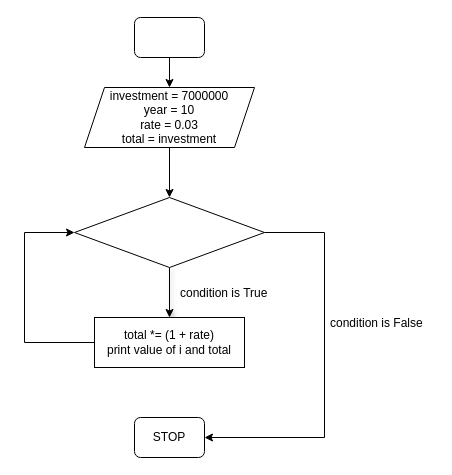
Image size: 452x475. Some labels were removed from this diagram. The centre of each missing label's shape, as x and y in pixels:
condition for(i = 1; i <= year; i++): the point at 169,232
START: the point at 169,37
